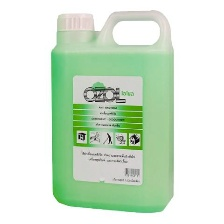cleaning_solution: (49, 8, 178, 215)
